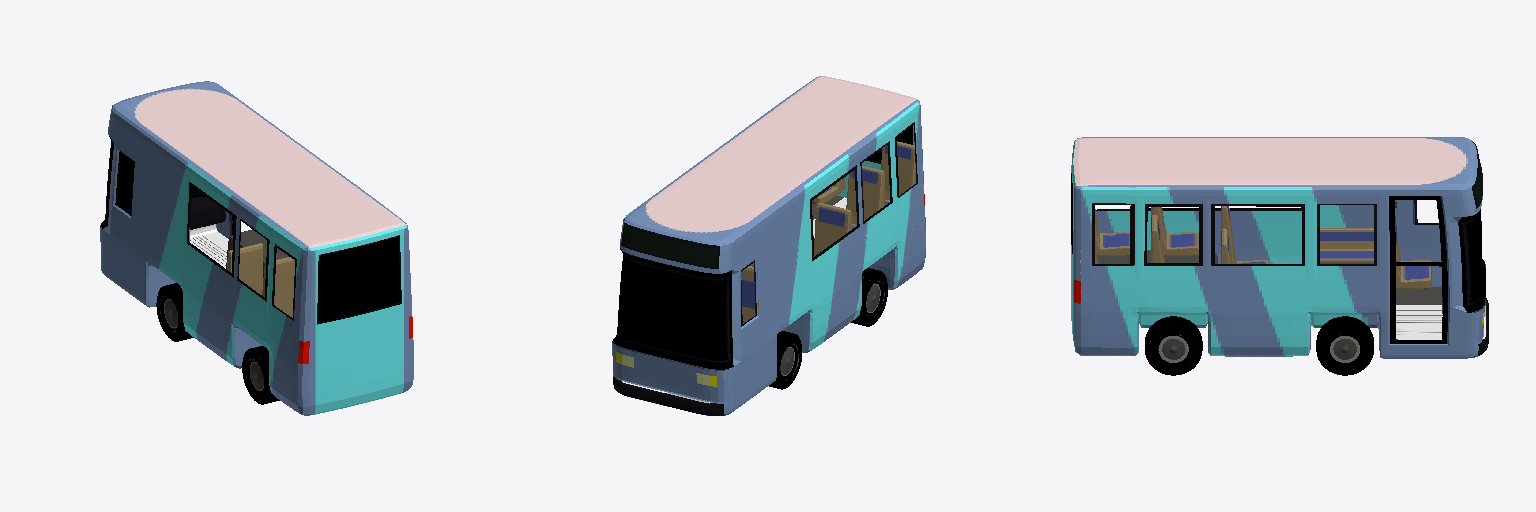
The picture shows the model from 3 angles: view 1: azimuth 30°, elevation 25°; view 2: azimuth 150°, elevation 25°; view 3: azimuth 270°, elevation 25°; orthographic projection.
Visible parts, largest first — view 1: Cube_Cube.011; view 2: Cube_Cube.011; view 3: Cube_Cube.011.
Boxes of the visible parts, <box> form: Cube_Cube.011: <box>100,81,413,415</box>; Cube_Cube.011: <box>612,76,925,415</box>; Cube_Cube.011: <box>1071,137,1488,375</box>.
Bounding box in the file's own units: 1.92 × 2.94 × 5.85.
Materials: 1 (1 with a texture image).